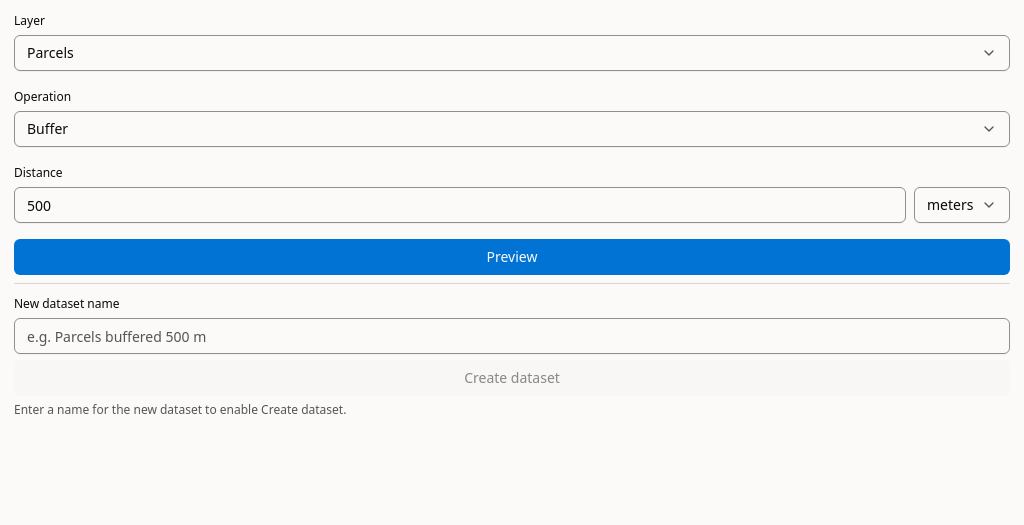
Test: AnalysisPanel › offers only polygonal layers as a clip mask (#698)
Click the dropdown labelled "Buffer" at point(48, 128), box [14,111,1010,147]
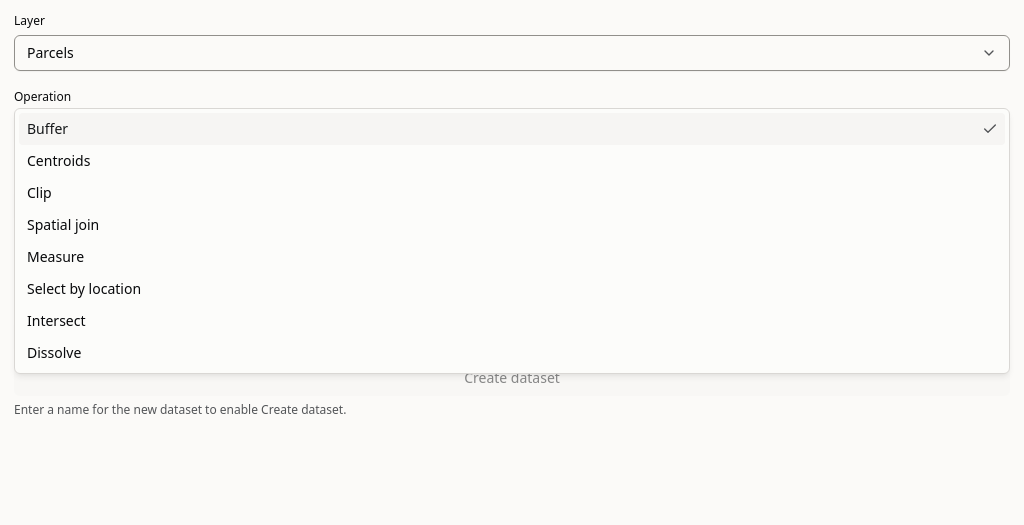
Click the option "Clip" at point(39, 192), box [27,183,52,202]
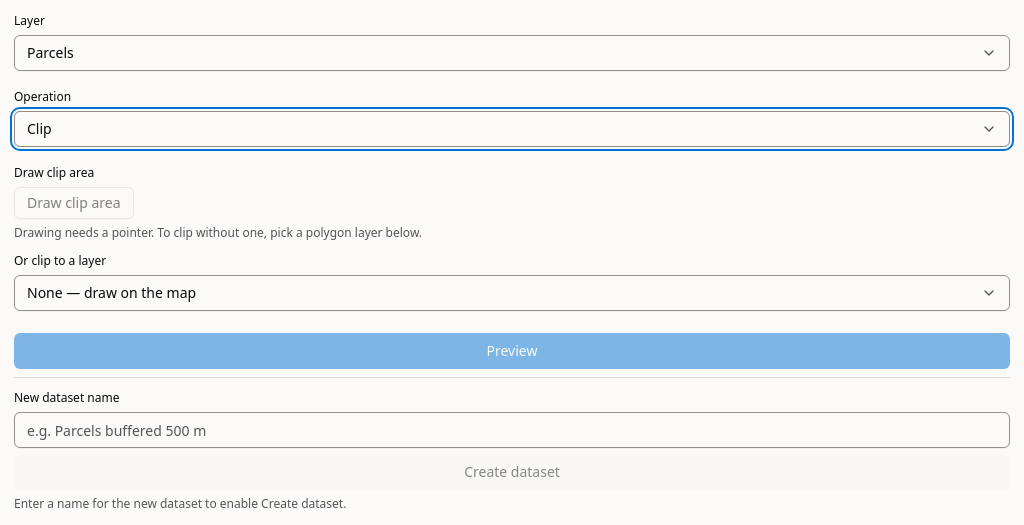
Click the dropdown labelled "None — draw on the map" at point(112, 292), box [14,275,1010,311]
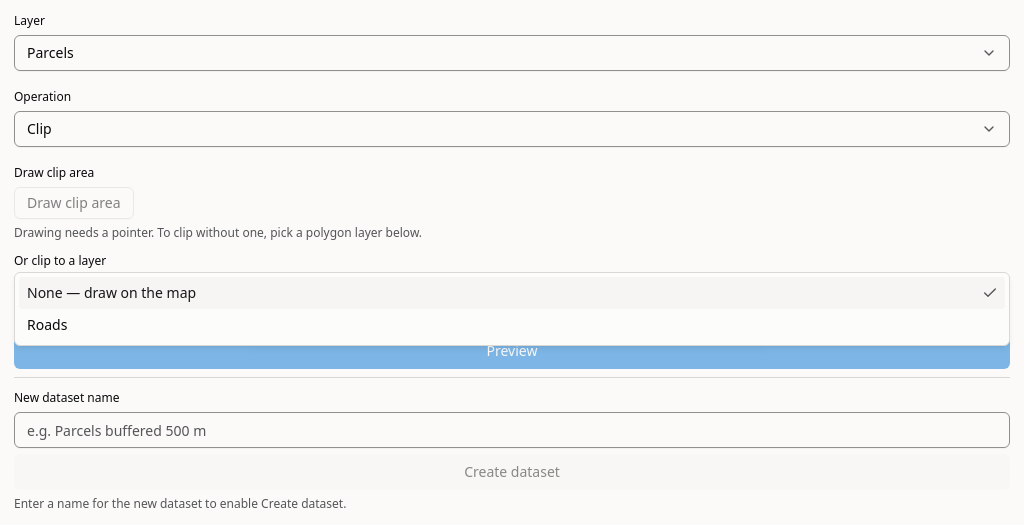
Check: the option "Roads" is shown, box [27,315,67,334]
